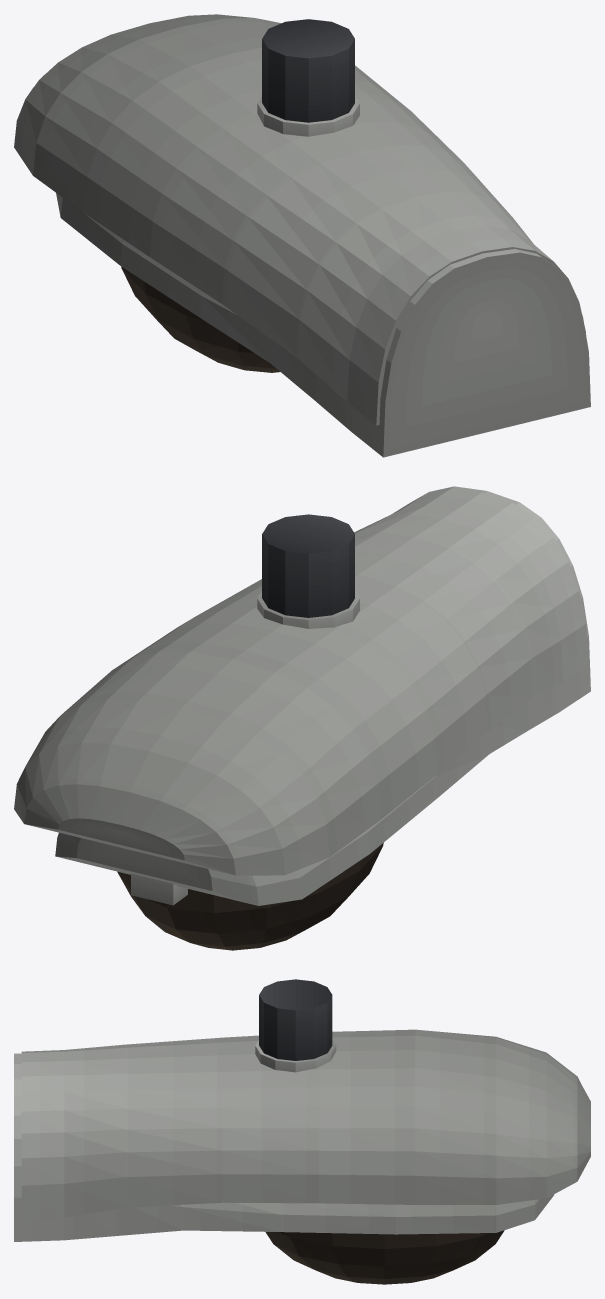
File: streetlight_gem400.obj
The picture shows the model from 3 angles, top to bottom: view 1: azimuth 30°, elevation 25°; view 2: azimuth 150°, elevation 25°; view 3: azimuth 270°, elevation 25°; orthographic projection. The views are drawn at different scales.
Parts seen in each view (by area): view 1: fixture; view 2: fixture; view 3: fixture.
Boxes of the visible parts, x1,y1,x2,y2 form: fixture: (14,14,590,457); fixture: (14,486,590,950); fixture: (14,979,590,1284).
Bounding box in the file's own units: 0.4375 × 0.5016 × 0.9344.
